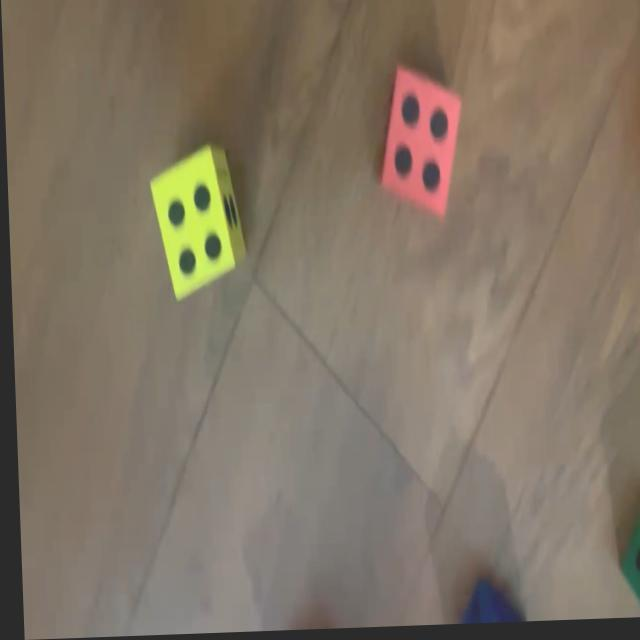blue_block: (459, 587, 514, 627)
red_block: (372, 69, 463, 223)
